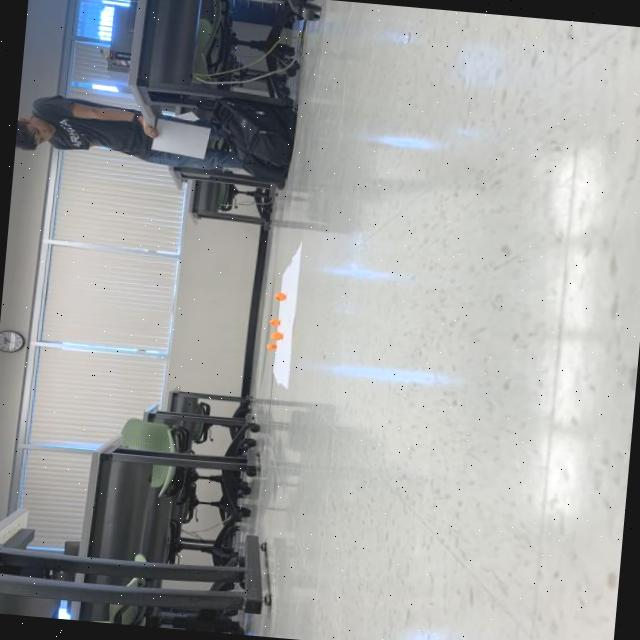ping-pong-ball: (268, 330, 282, 341), (271, 292, 286, 301), (267, 318, 280, 327), (264, 341, 274, 352)
